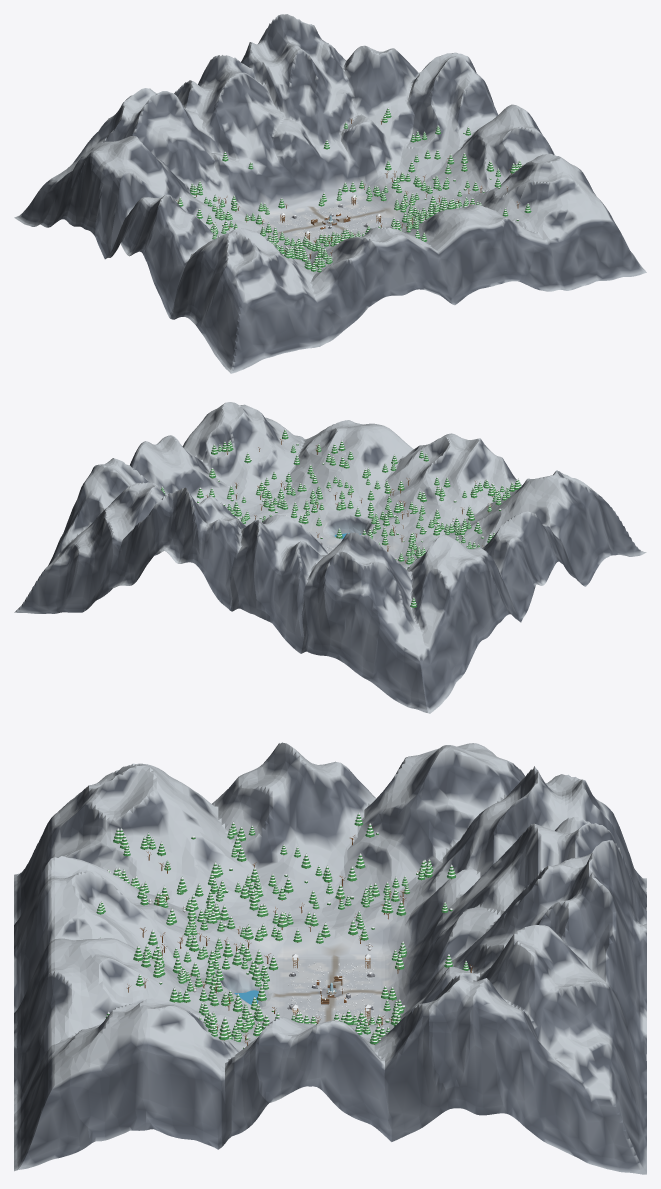
The model's file is winter.glb.
3 renders of one model, top to bottom at view 1: azimuth 30°, elevation 25°; view 2: azimuth 150°, elevation 25°; view 3: azimuth 270°, elevation 25°, orthographic. The views are drawn at different scales.
Visible parts, largest first — view 1: Terrain; view 2: Terrain; view 3: Terrain.
Part boxes in pixels (x1,y1,x2,y2): Terrain: (14,14,646,373); Terrain: (14,402,646,713); Terrain: (14,742,646,1174).
Bounding box in the file's own units: 309 × 108 × 279.
